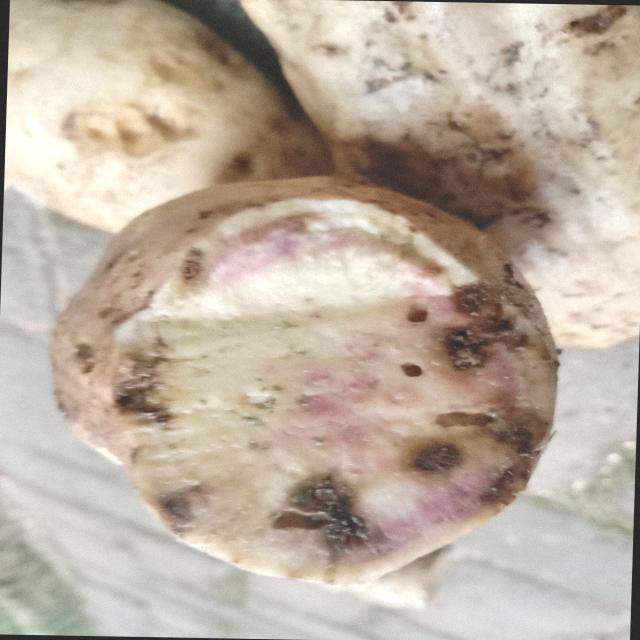Sick Sweet Potato_Tuber Rot: (115, 199, 557, 582)
